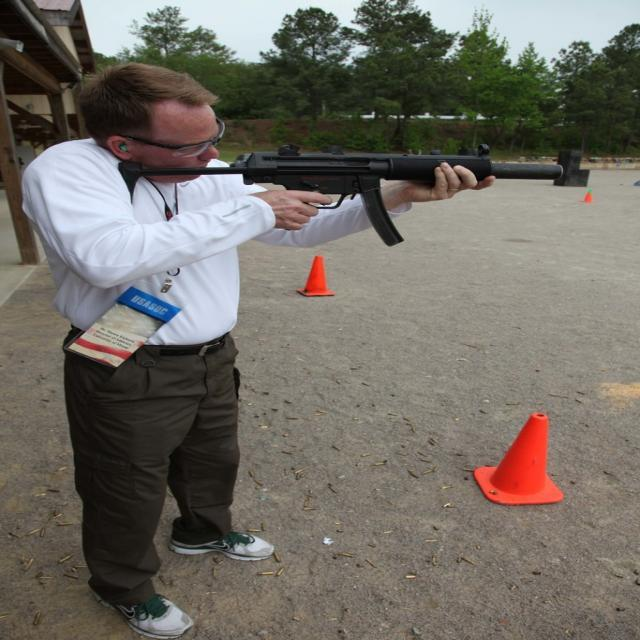weapon: (65, 140, 572, 260)
